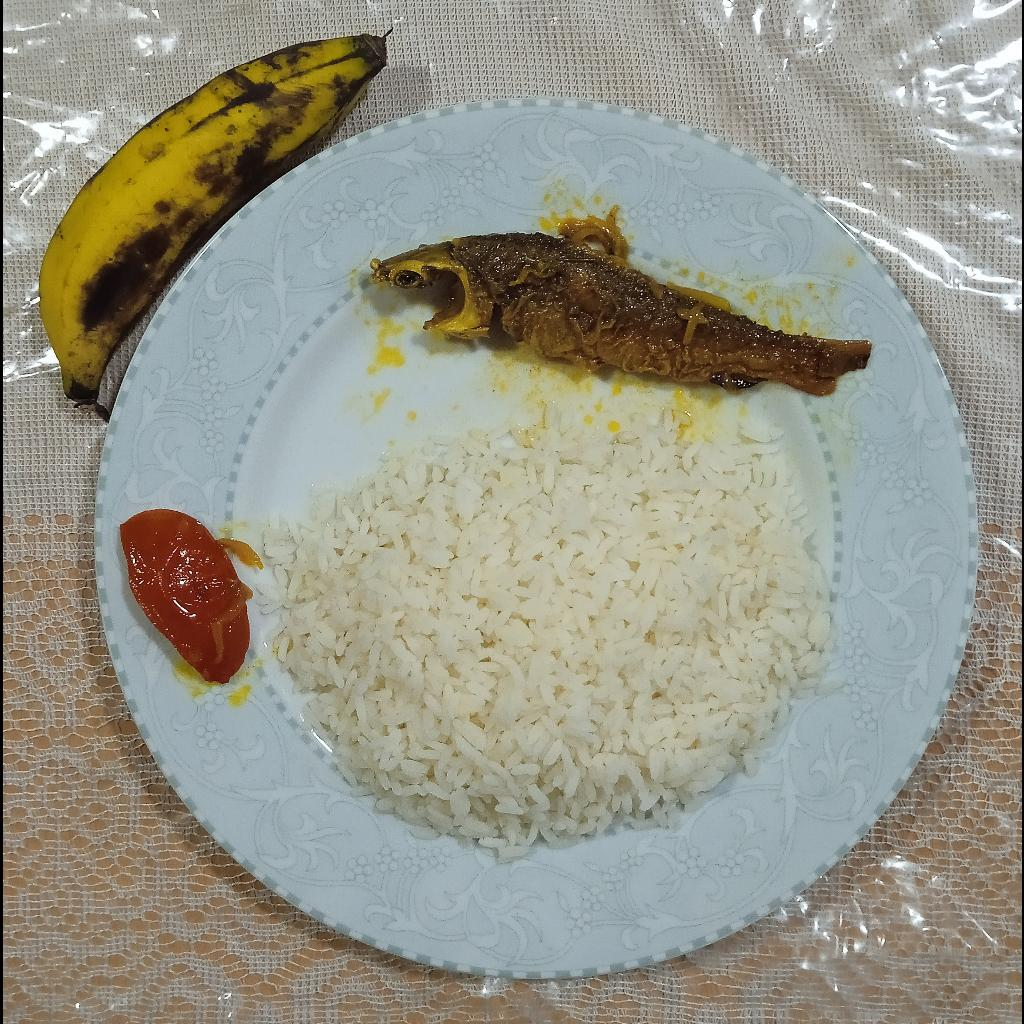banana: (36, 32, 388, 405)
fish: (370, 231, 869, 396)
rice: (258, 400, 831, 851)
tomato: (120, 511, 251, 686)
